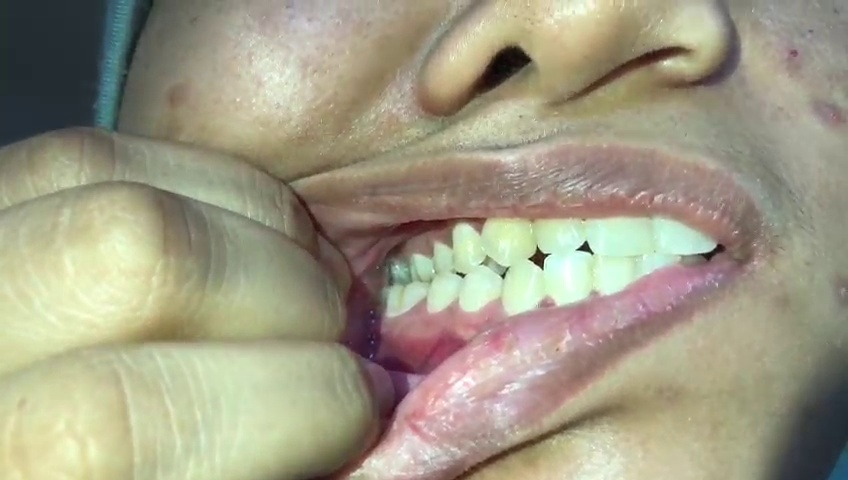1st Molar: (399, 281, 425, 315), (413, 252, 434, 283)
1st Premolar: (457, 265, 501, 315), (451, 222, 486, 272)
2nd Molar: (384, 283, 401, 316), (391, 257, 410, 282)
2nd Premolar: (427, 271, 459, 317), (433, 240, 454, 277)
Canine: (482, 214, 538, 266), (502, 259, 545, 318)
Lateral Incisor: (545, 250, 594, 309)
